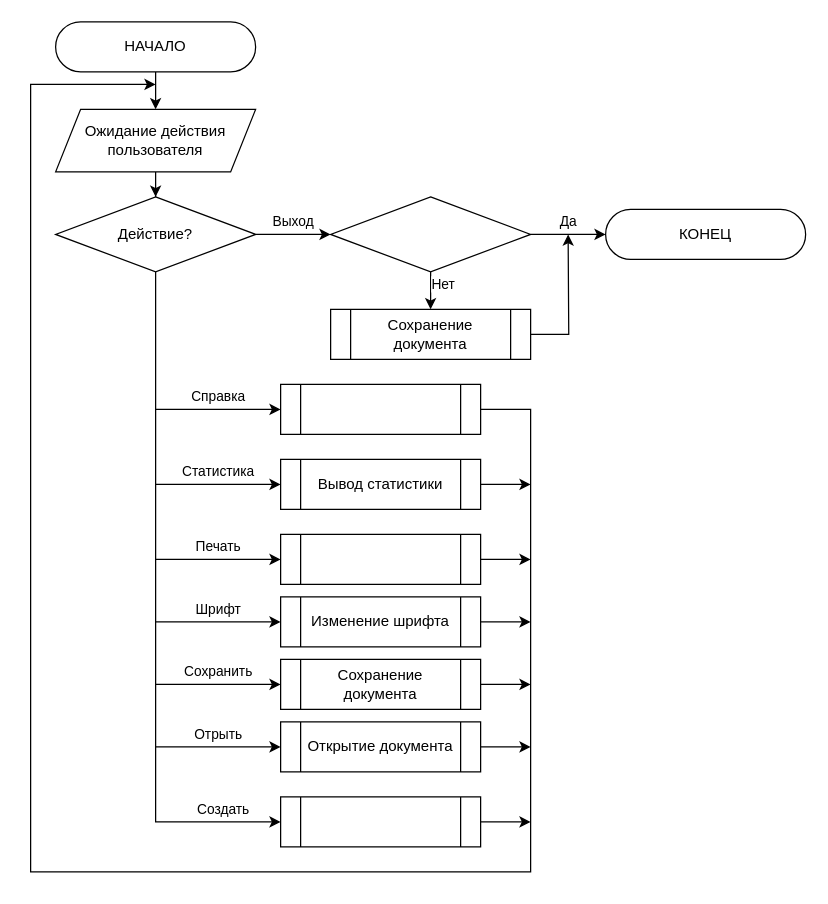
The diagram is 828 pixels wide and 904 high, and some of its shapes have lost their labels. The box of each missing label's shape, as (x1, y1, x2, y2) in pixels:
Вывод стправки: (279, 383, 481, 434)
Печать документа: (279, 533, 481, 584)
Создание документа: (279, 796, 481, 847)
Файл сохранен?: (329, 196, 531, 272)
